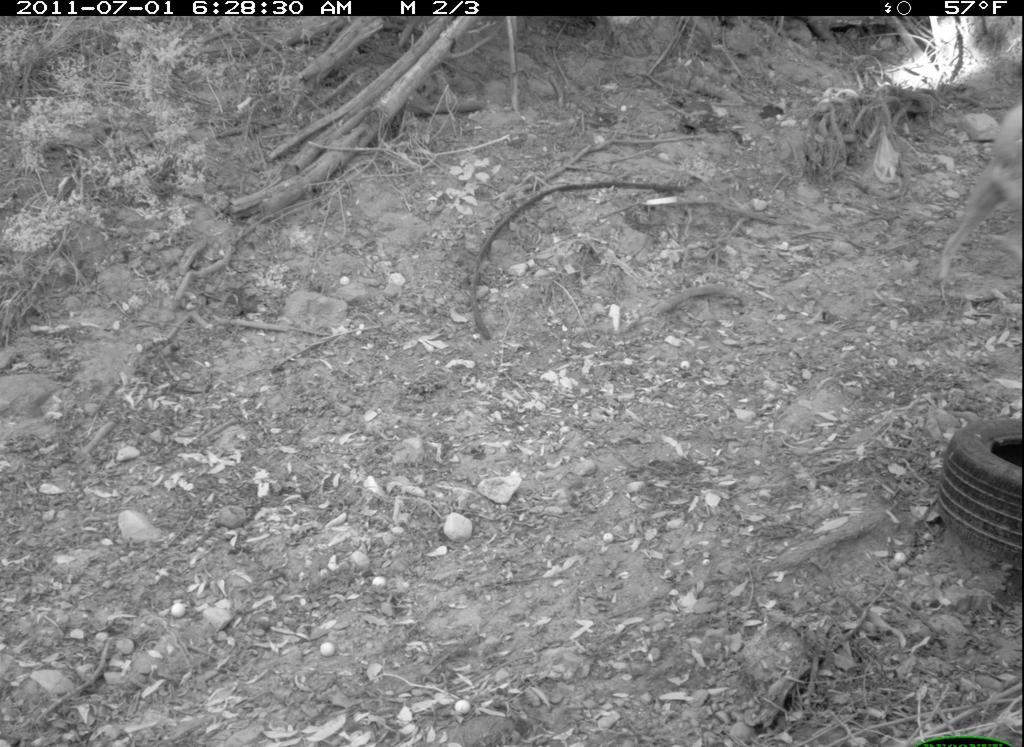dog: (885, 82, 1022, 291)
